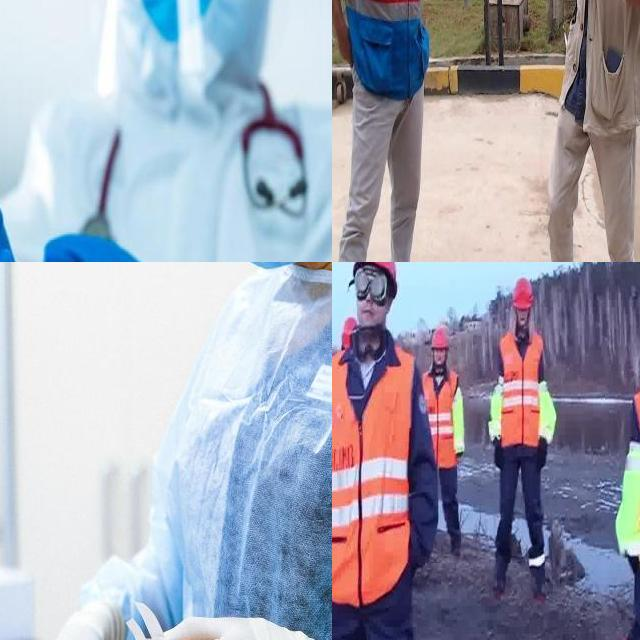BOOTS: (488, 548, 513, 601), (528, 554, 546, 602)
GLASS: (354, 267, 391, 308)
Glove: (23, 598, 128, 640), (135, 612, 270, 640)
HELMET: (355, 262, 397, 285), (513, 279, 534, 309), (341, 318, 357, 351), (428, 330, 450, 350)
MASK: (135, 0, 225, 29)
VEST: (332, 343, 415, 609), (344, 0, 432, 96), (500, 327, 546, 446), (421, 367, 461, 469)
